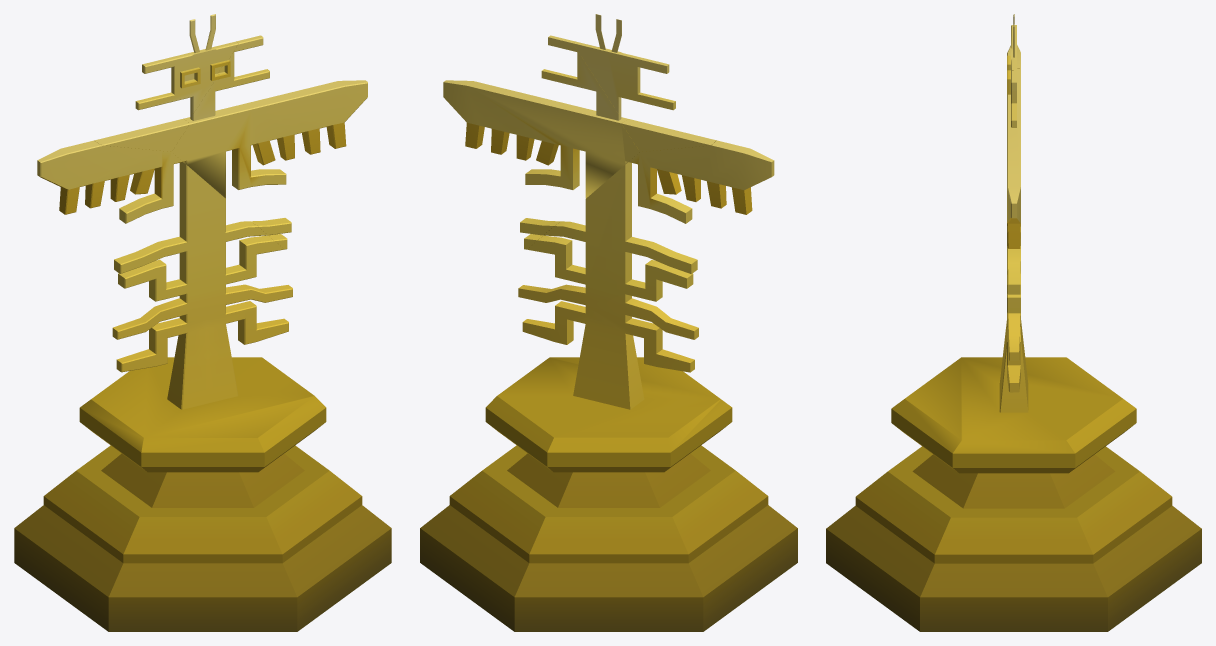
Rendered from MonolitoPancheFracture.fbx.
3 views of the same model, side by side, from view 1: azimuth 30°, elevation 25°; view 2: azimuth 150°, elevation 25°; view 3: azimuth 270°, elevation 25° (orthographic).
Parts seen in each view (by area): view 1: MonolitoPanche_cell.004, MonolitoPanche_cell, MonolitoPanche_cell.014, MonolitoPanche_cell.008, MonolitoPanche_cell.016; view 2: MonolitoPanche_cell.004, MonolitoPanche_cell, MonolitoPanche_cell.014, MonolitoPanche_cell.008, MonolitoPanche_cell.016; view 3: MonolitoPanche_cell.004, MonolitoPanche_cell.
Boxes of the visible parts, left/top/right/bottom form: MonolitoPanche_cell.004: left=14, top=162, right=391, bottom=631; MonolitoPanche_cell: left=172, top=35, right=367, bottom=198; MonolitoPanche_cell.014: left=37, top=140, right=182, bottom=223; MonolitoPanche_cell.008: left=135, top=14, right=238, bottom=113; MonolitoPanche_cell.016: left=94, top=118, right=189, bottom=151; MonolitoPanche_cell.004: left=420, top=162, right=797, bottom=631; MonolitoPanche_cell: left=443, top=35, right=639, bottom=198; MonolitoPanche_cell.014: left=629, top=140, right=774, bottom=223; MonolitoPanche_cell.008: left=573, top=14, right=675, bottom=113; MonolitoPanche_cell.016: left=621, top=119, right=715, bottom=151; MonolitoPanche_cell.004: left=826, top=242, right=1201, bottom=631; MonolitoPanche_cell: left=1007, top=70, right=1020, bottom=248.
Size of the model in its own units: 1004 by 1594 by 1000.
